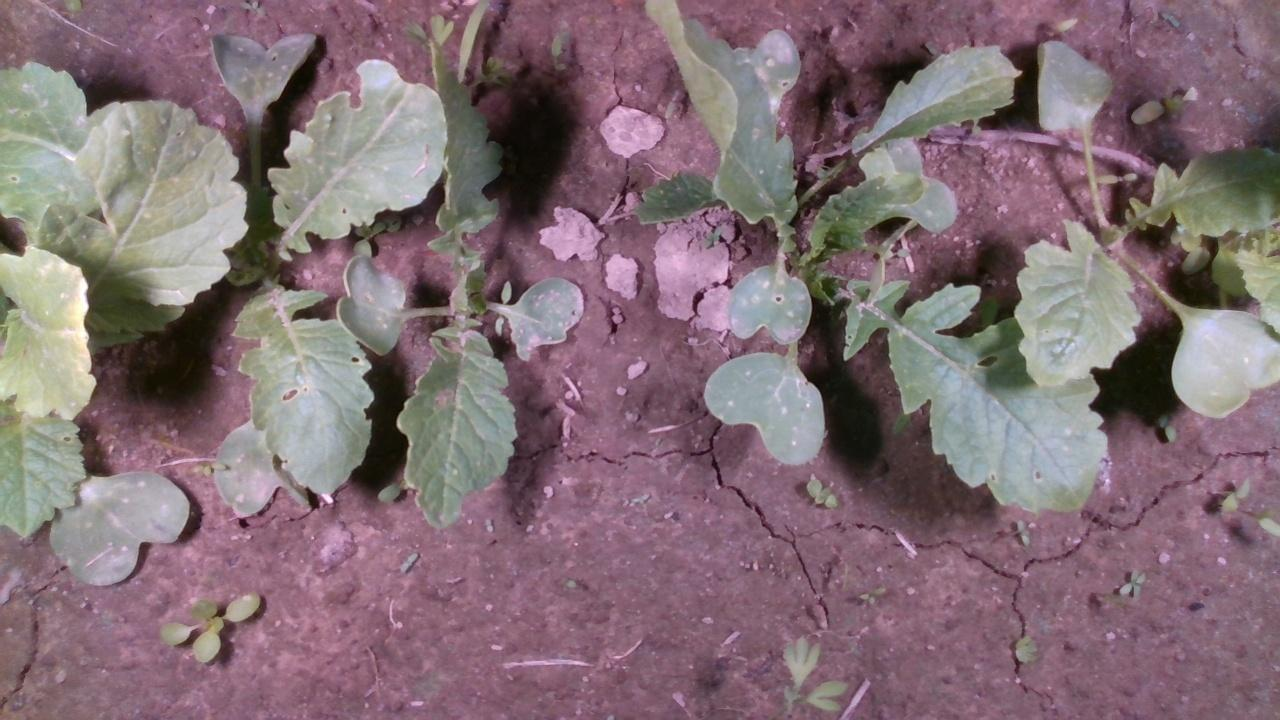weed: (156, 588, 261, 666), (805, 476, 838, 510), (1117, 566, 1146, 599), (854, 585, 886, 607), (1156, 412, 1177, 442), (1013, 516, 1030, 548)
